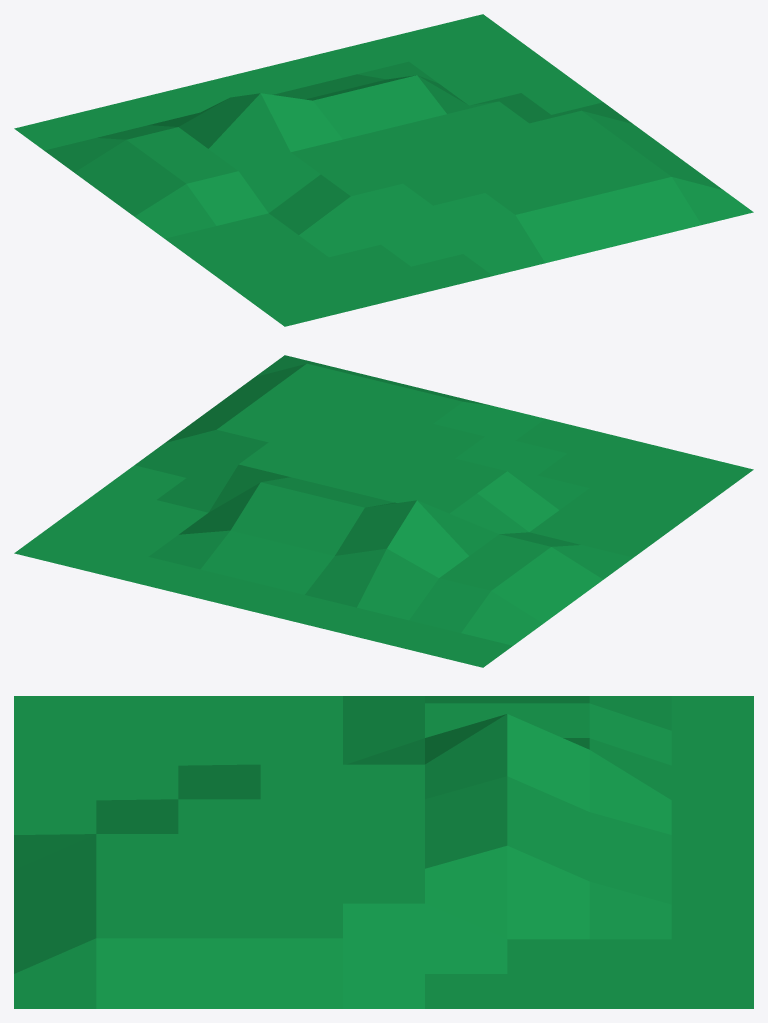
Rendered from Hill_L.fbx.
3 views of the same model, one above another, from view 1: azimuth 30°, elevation 25°; view 2: azimuth 150°, elevation 25°; view 3: azimuth 270°, elevation 25° (orthographic). The views are drawn at different scales.
Visible parts, largest first — view 1: Plane.001; view 2: Plane.001; view 3: Plane.001.
Part boxes in pixels (x1,y1,x2,y2): Plane.001: [14, 14, 753, 326]; Plane.001: [14, 355, 753, 667]; Plane.001: [14, 696, 753, 1008].
Size of the model in its own units: 20 by 2.58 by 20.
